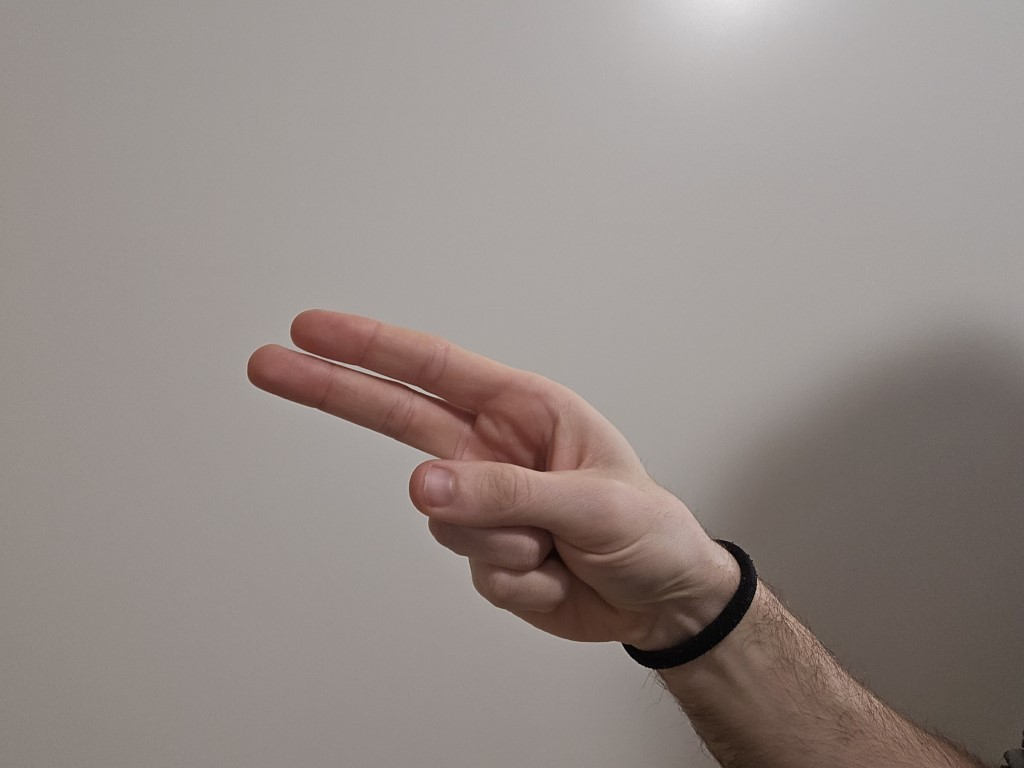h: (234, 303, 712, 645)
